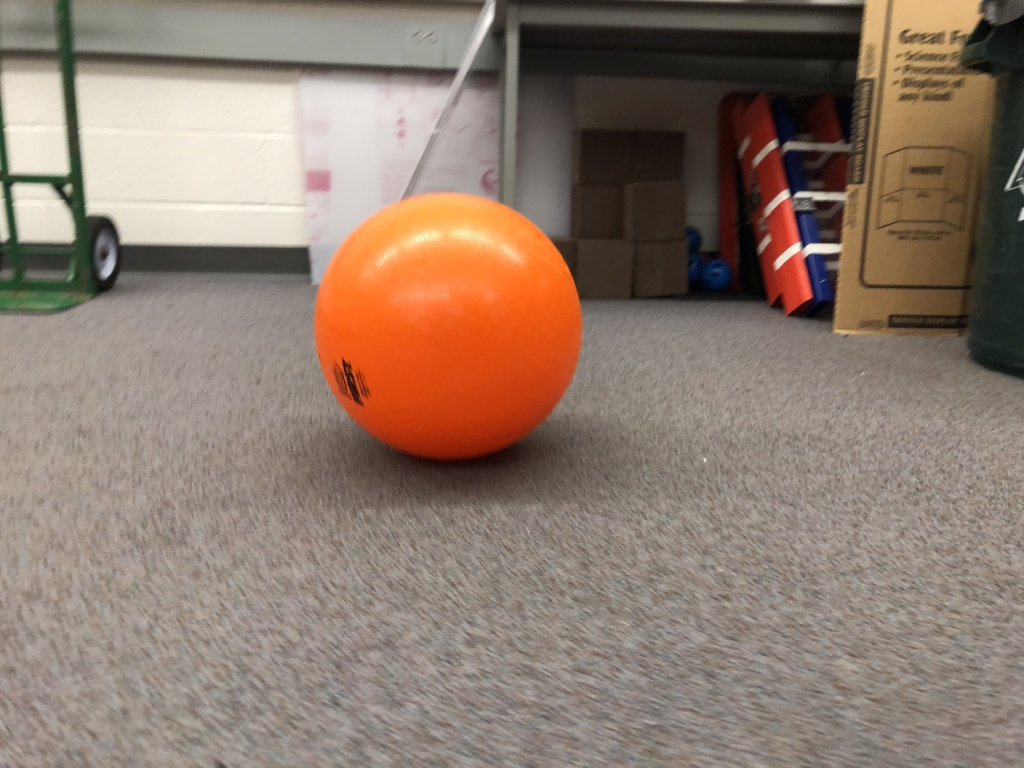cargo: (312, 187, 599, 475)
